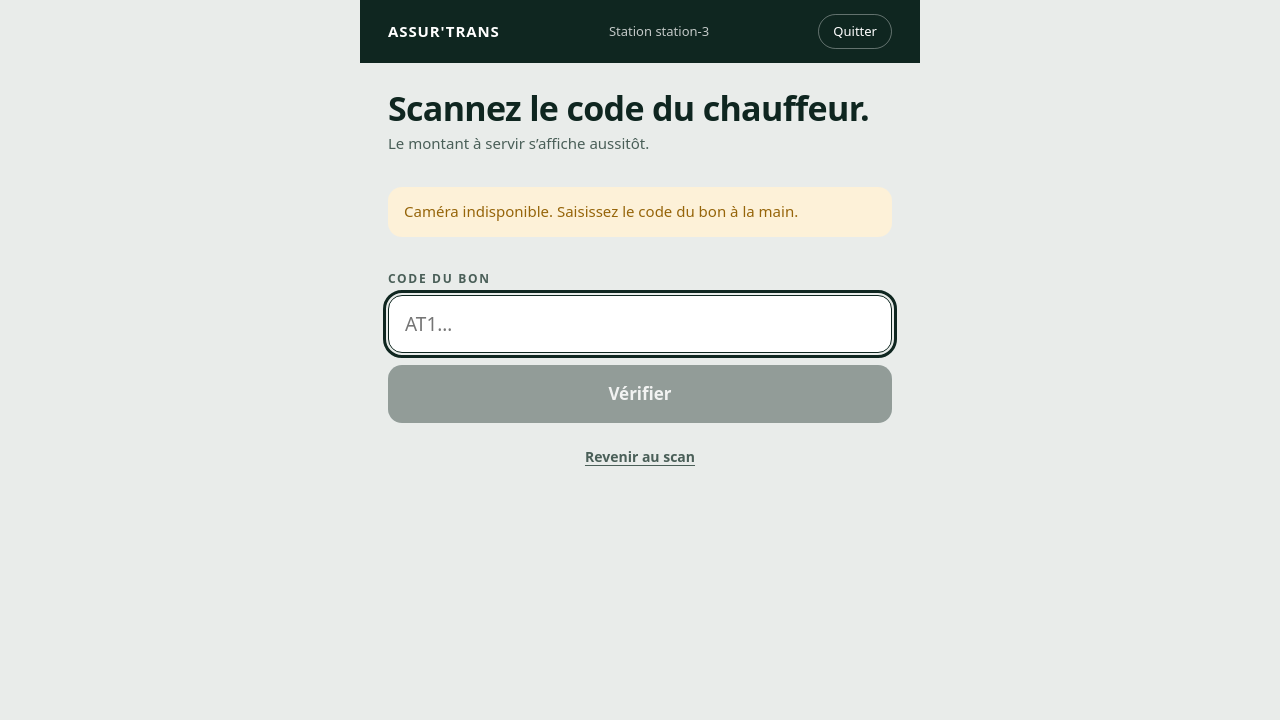
Scenario: bon déjà utilisé › distingue un service dans une autre station
Type "AT1.charge.signature" into the field with placeholder "AT1…" at [640, 324], box [388,295,892,353]
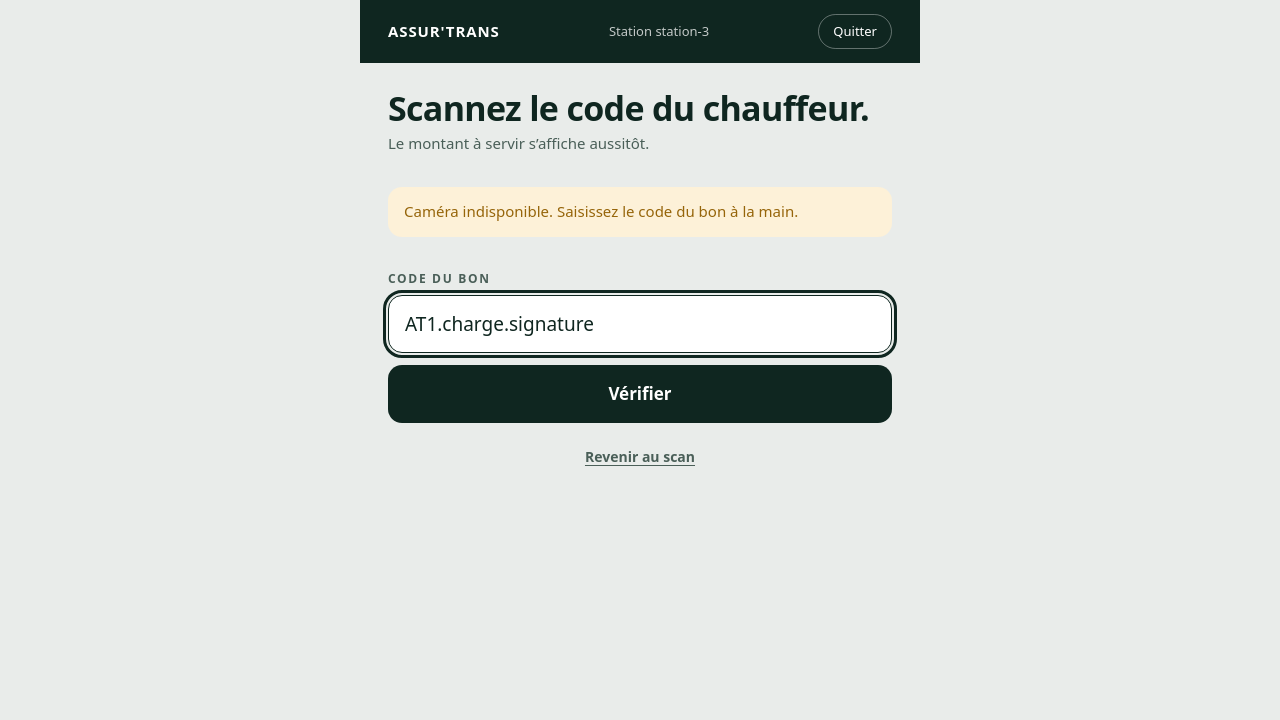
Click the button "Vérifier" at [640, 394], box [388,365,892,423]
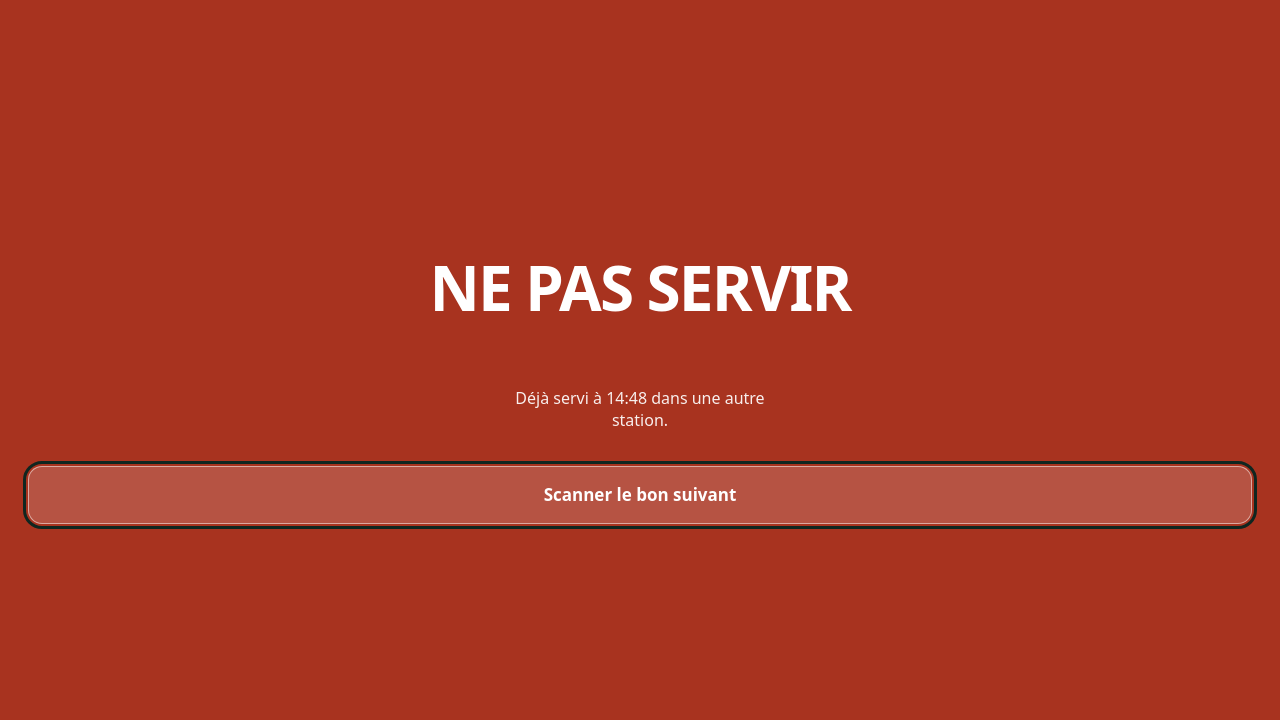
Check: the text "Déjà servi à 14:48 dans une autre station." is shown, box [503,387,777,432]
